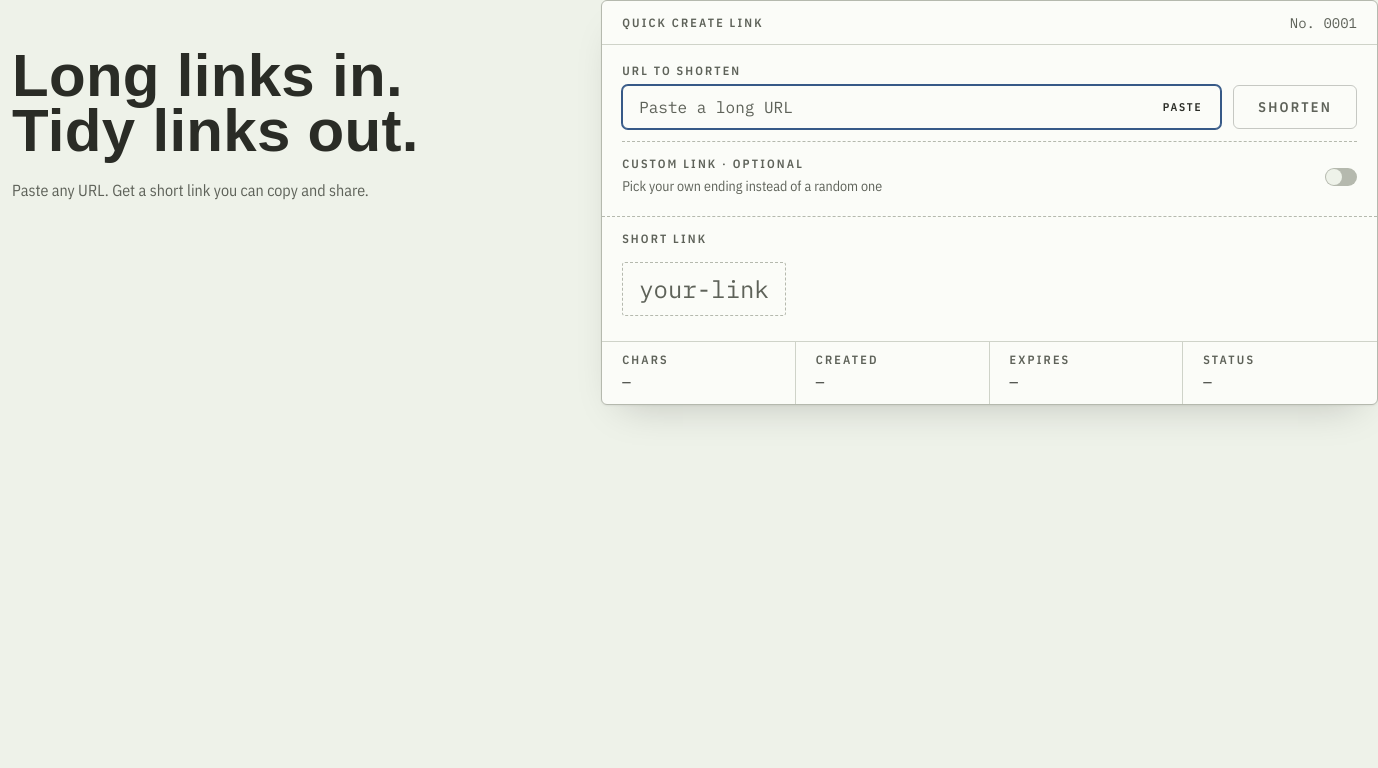
Test: ShortenForm › custom link › shows an error when the slug is taken
Type "https://example.com" into the field labelled "URL to shorten".
click(922, 107); type("https://example.com")  # box 622,85 -> 1221,129
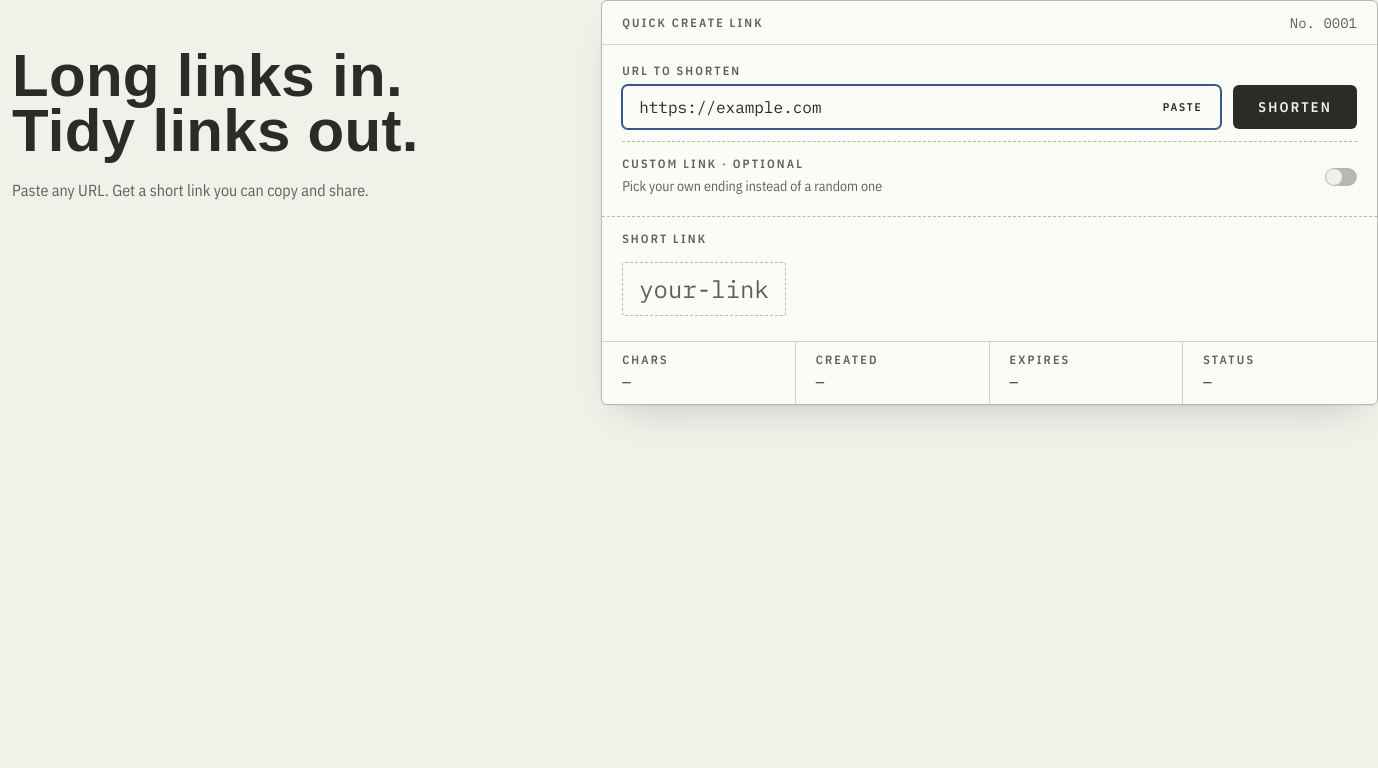
Click the switch named "Use a custom link".
click(1341, 177)  # box 1325,168 -> 1357,186
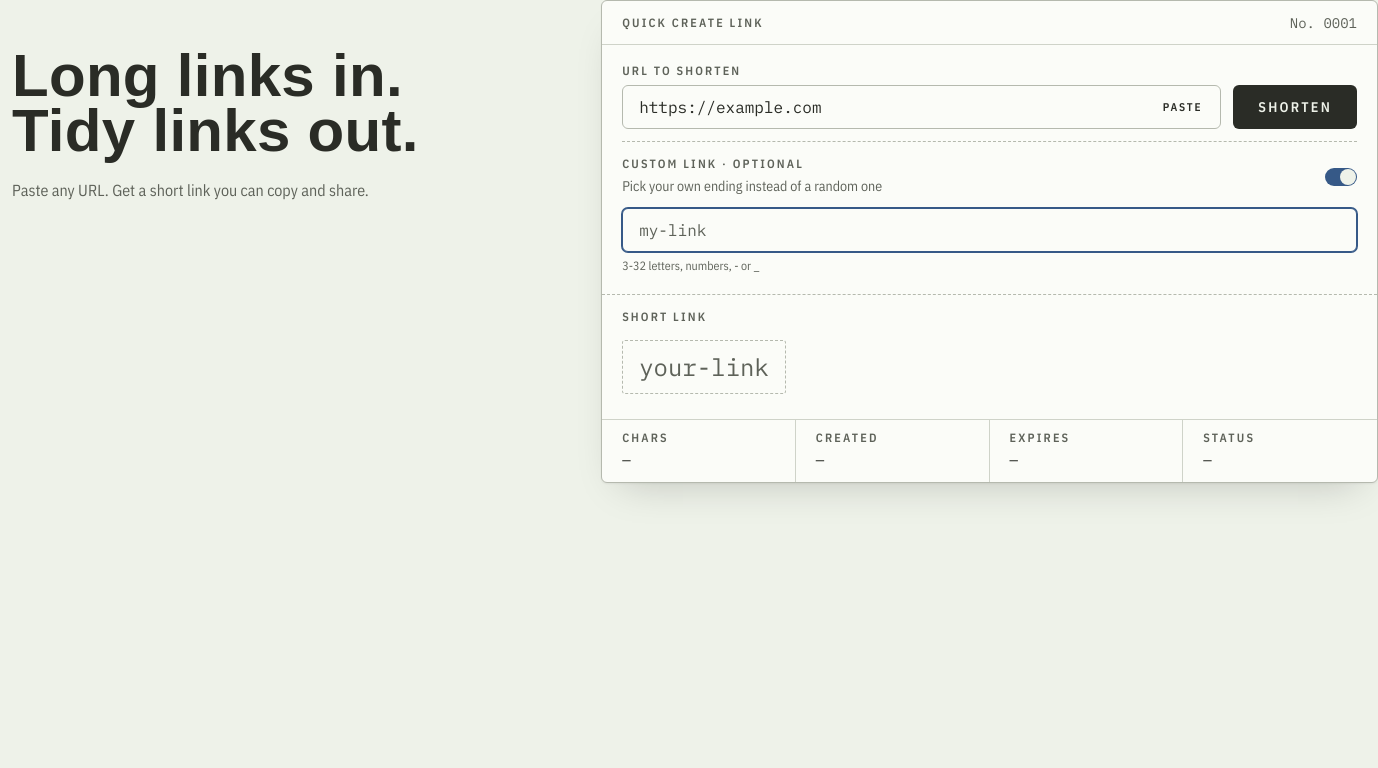
Type "taken" into the field named "Custom link".
click(990, 230); type("taken")  # box 622,208 -> 1357,252
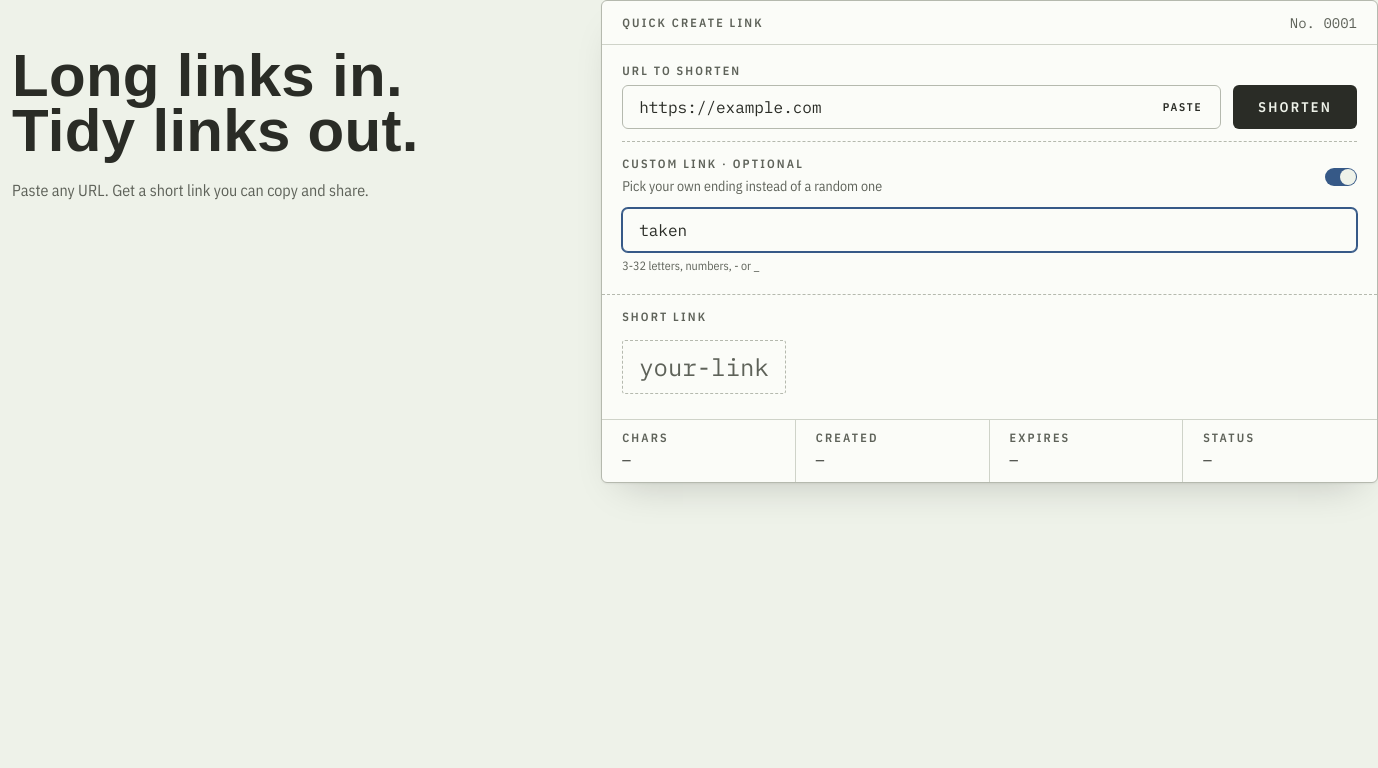
Click the button "Shorten".
click(1295, 107)  # box 1233,85 -> 1357,129
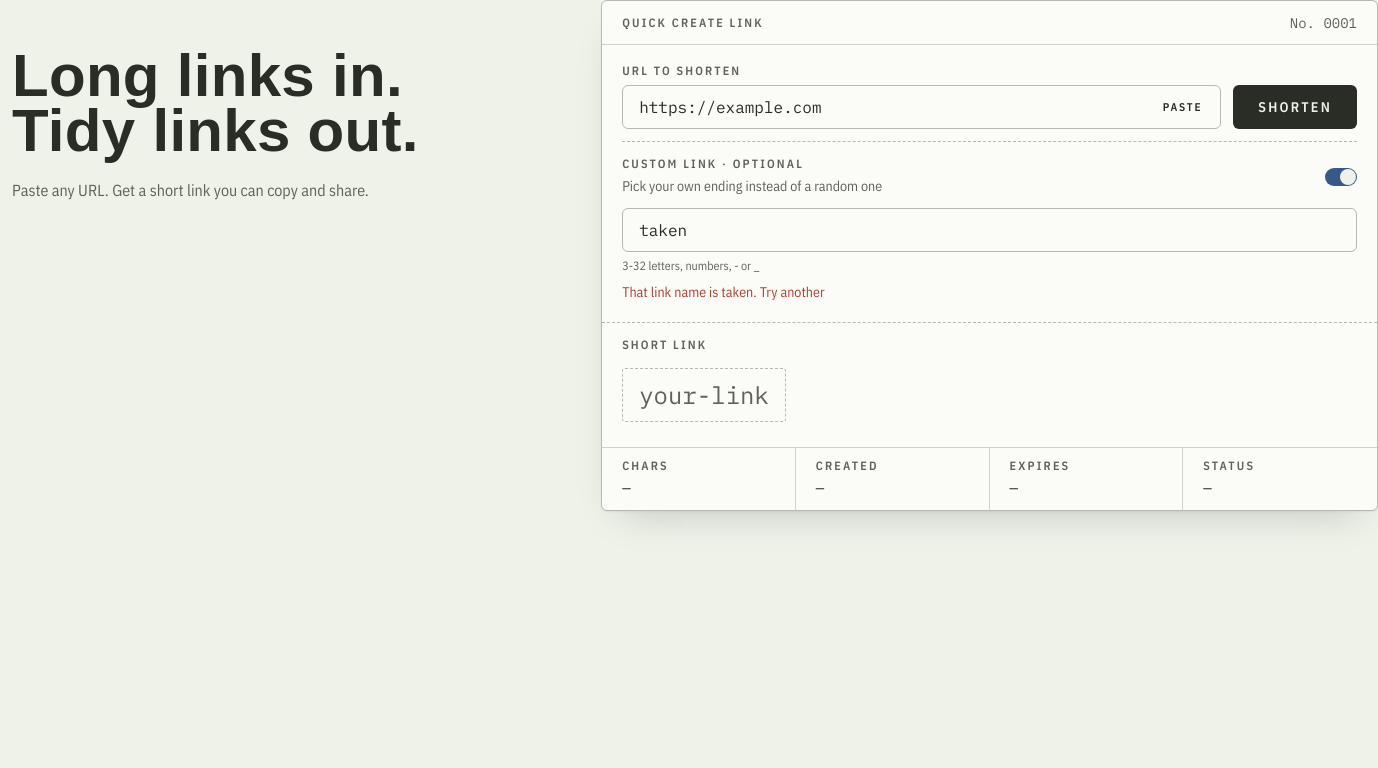
Check: the message reads "That link name is taken. Try another", box 622,283 -> 825,301
